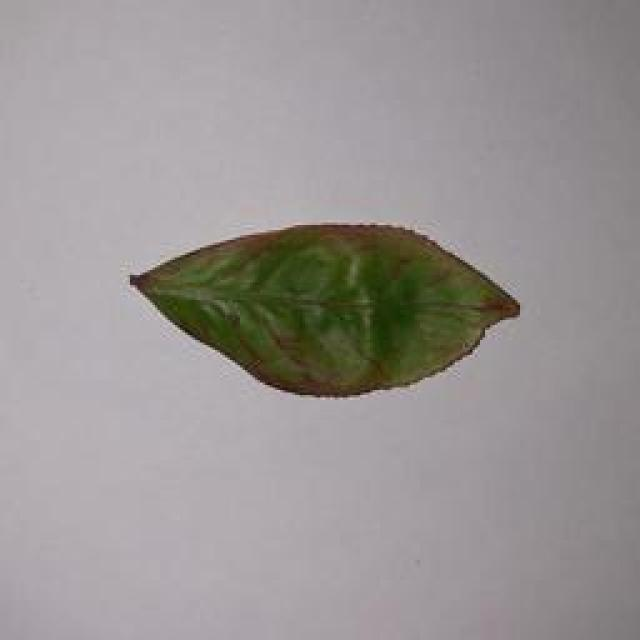Red Leaf Spot: (124, 212, 534, 418)
